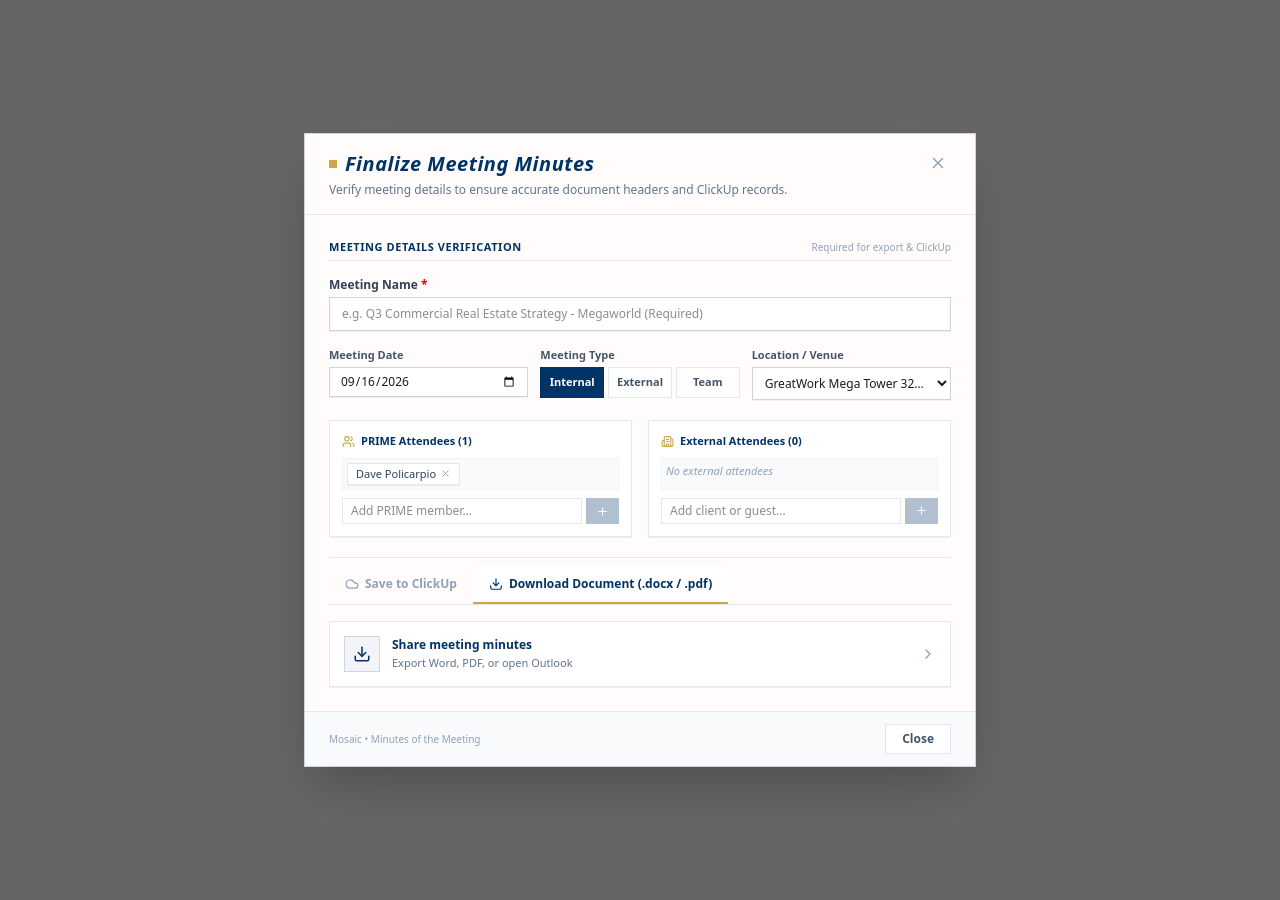
Test: FinalizeMeetingModal › displays validation warning if title/client name is empty when clicking export
The width and height of the screenshot is (1280, 900).
Expected: the heading "Finalize Meeting Minutes" is shown, [345, 150, 594, 178]
Expected: the text "Meeting Details Verification" is shown, [329, 239, 522, 256]
Note: Open the compact export control, then choose Word while title is empty
Step 1. Click the button "Share meeting minutes Export Word, PDF, or open Outlook" → x=362, y=654, box [329, 621, 951, 687]
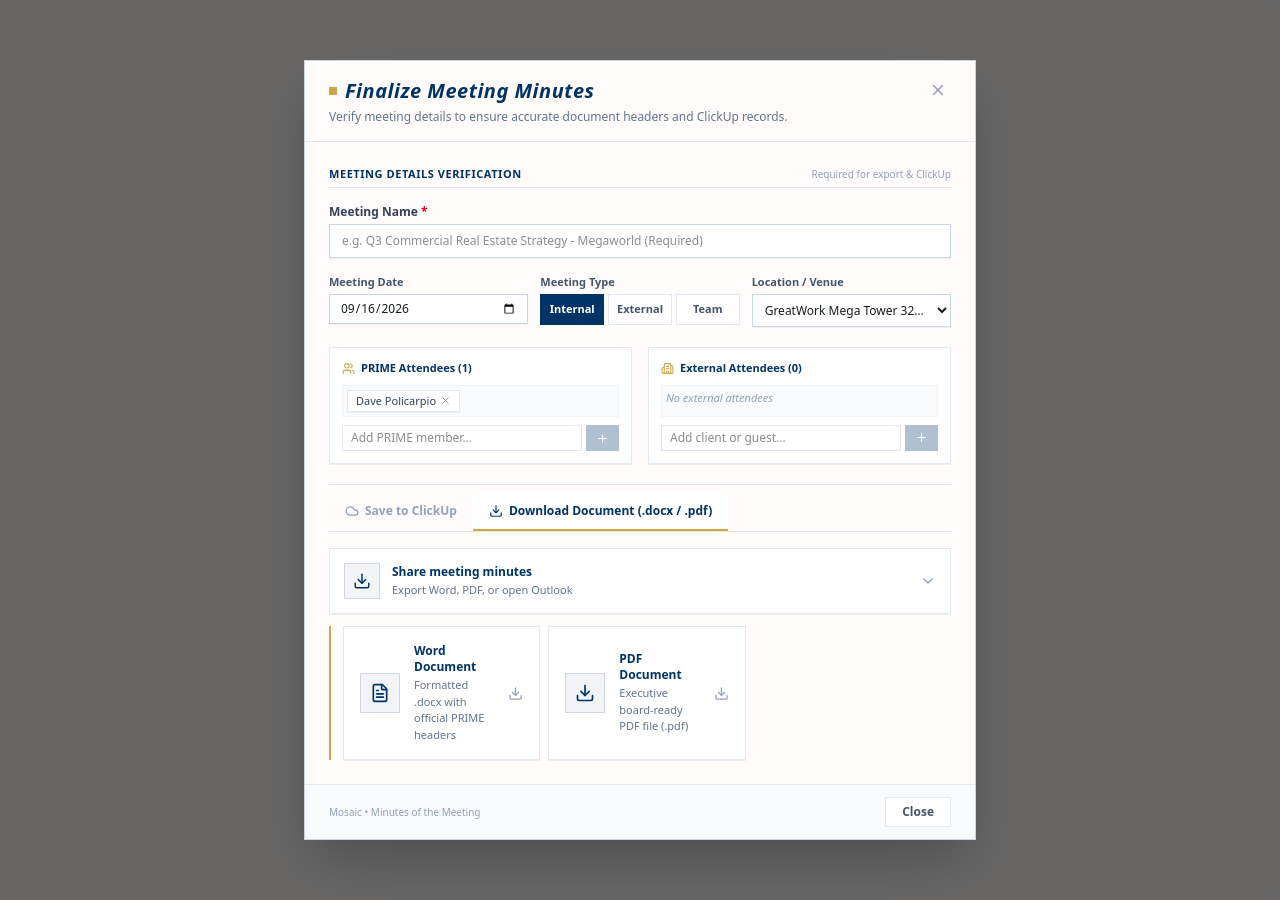
Step 2. Click the text "Word Document" → x=445, y=658, box [414, 642, 476, 675]
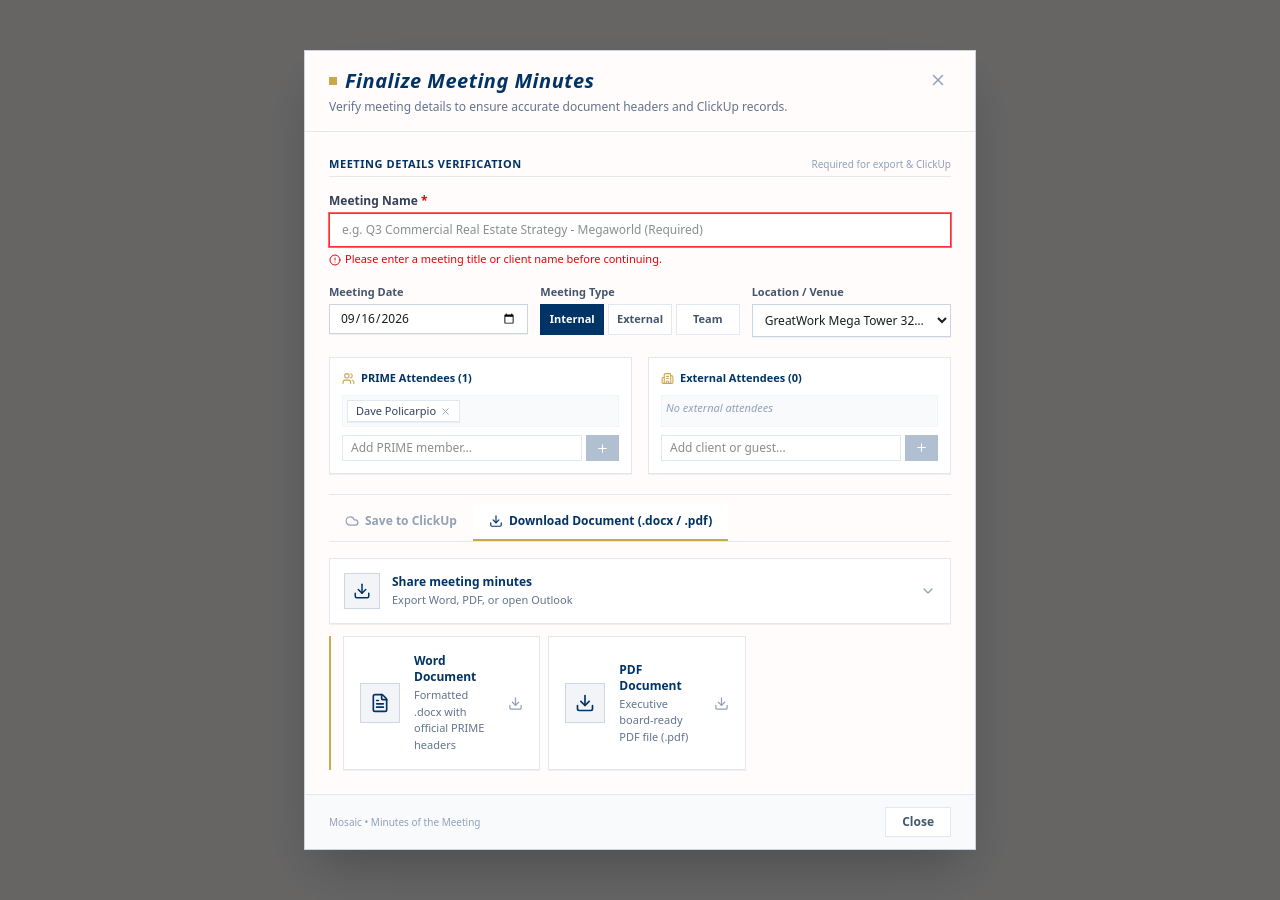
Expected: the text "Please enter a meeting title or client name before continuing" is shown, [345, 251, 662, 266]
